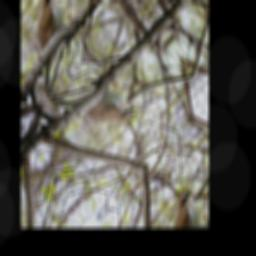Cuckoo: (45, 48, 136, 162)
